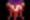eye: (5, 0, 25, 20)
